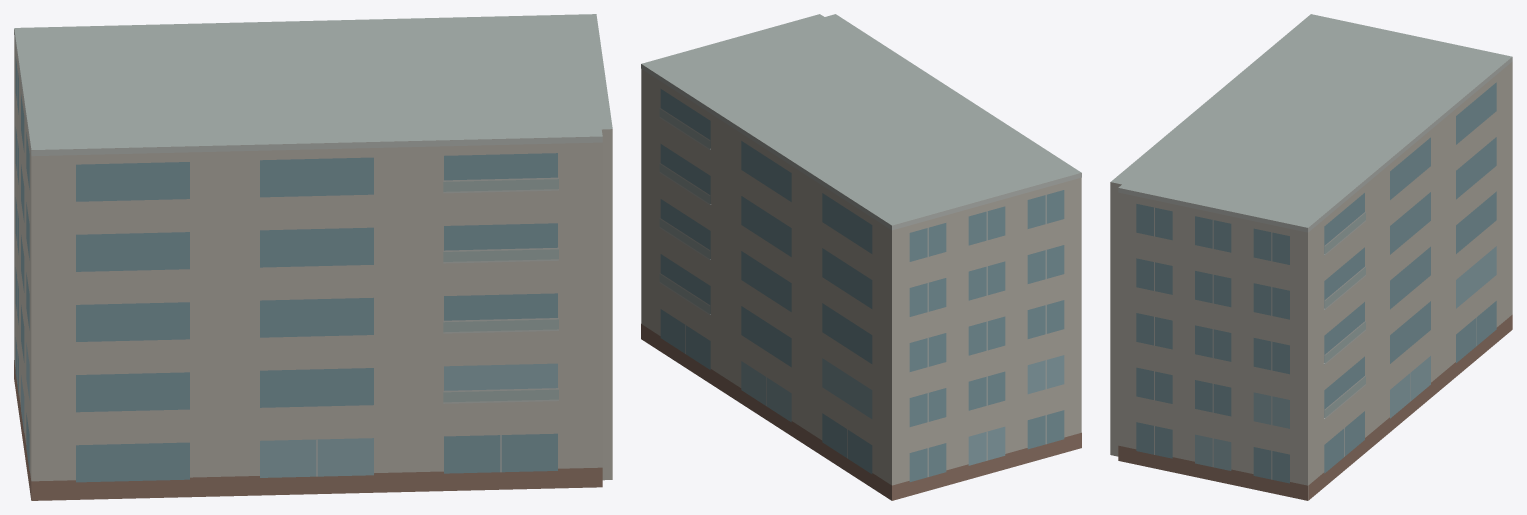
The model's file is survey-upis-32524576.glb.
3 views of the same model, side by side, from view 1: azimuth 30°, elevation 25°; view 2: azimuth 150°, elevation 25°; view 3: azimuth 270°, elevation 25° (orthographic). The views are drawn at different scales.
Visible parts, largest first — view 1: survey-upis-32524576.tmp; view 2: survey-upis-32524576.tmp; view 3: survey-upis-32524576.tmp.
Part boxes in pixels (bbox=[...]): survey-upis-32524576.tmp: bbox=[14, 14, 612, 500]; survey-upis-32524576.tmp: bbox=[641, 14, 1081, 500]; survey-upis-32524576.tmp: bbox=[1110, 14, 1512, 500].
Size of the model in its own units: 23.54 by 14 by 18.7.
